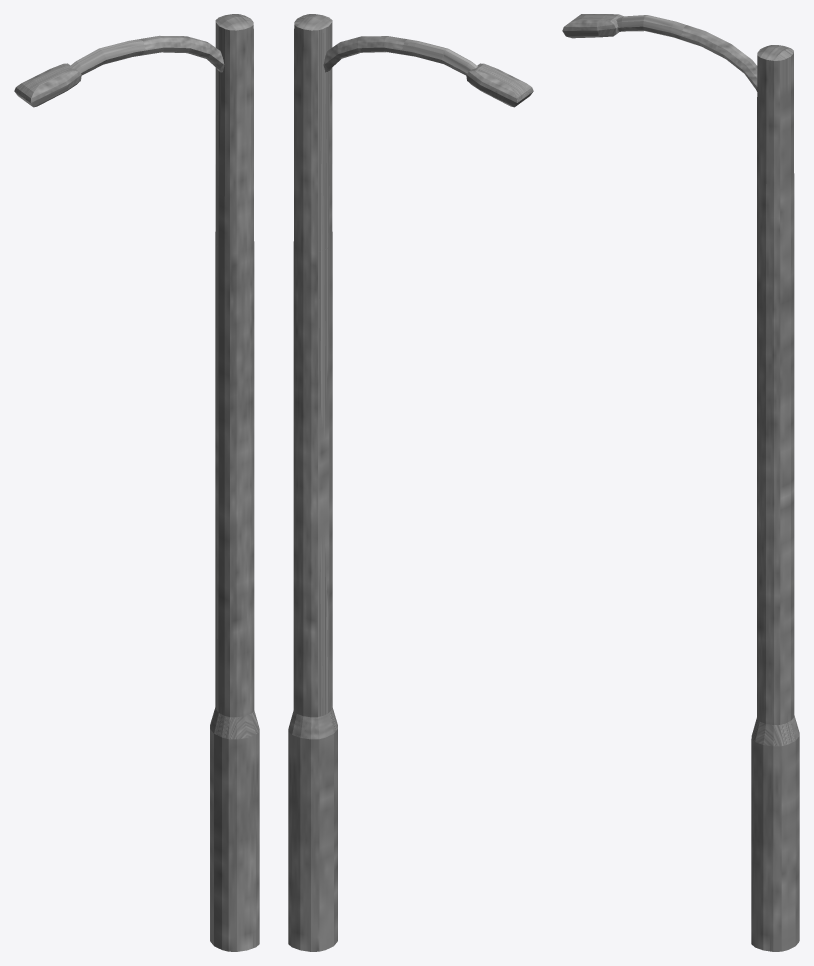
File: StreetLightV2.fbx
3 views of the same model, side by side, from view 1: azimuth 30°, elevation 25°; view 2: azimuth 150°, elevation 25°; view 3: azimuth 330°, elevation 25° (orthographic). The views are drawn at different scales.
Visible parts, largest first — view 1: Cube.004; view 2: Cube.004; view 3: Cube.004.
Boxes of the visible parts, x1=… form: Cube.004: x1=14, y1=14, x2=259, y2=951; Cube.004: x1=288, y1=14, x2=533, y2=951; Cube.004: x1=562, y1=14, x2=799, y2=951.
Bounding box in the file's own units: 262 × 992 × 49.28.
Materials: 1 (1 with a texture image).
